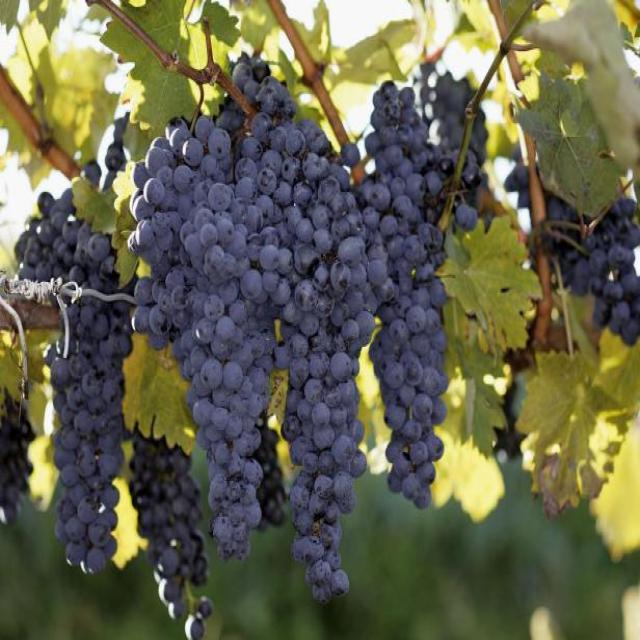grape: (123, 69, 490, 640), (12, 180, 153, 634)
